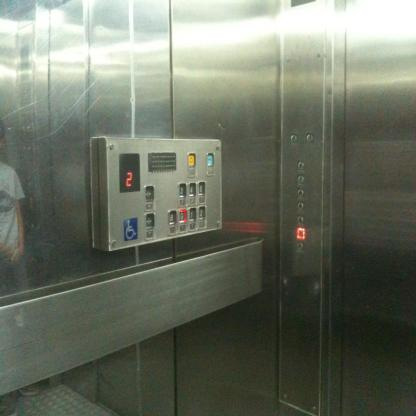1: (188, 206, 197, 221)
2: (198, 204, 206, 219)
3: (178, 182, 187, 198)
4: (188, 181, 197, 196)
5: (198, 180, 206, 194)
B: (168, 209, 177, 225)
CH: (124, 217, 138, 241)
G: (178, 208, 187, 224)
alarm: (188, 152, 196, 167)
blur: (296, 159, 306, 172), (296, 186, 306, 199), (296, 200, 306, 213), (296, 173, 306, 185), (296, 227, 305, 240), (296, 214, 305, 226), (296, 240, 304, 253), (290, 133, 298, 144), (306, 133, 314, 144)
call: (206, 151, 214, 166)
close: (145, 211, 155, 228)
led: (118, 153, 140, 193)
open: (144, 184, 154, 201)
